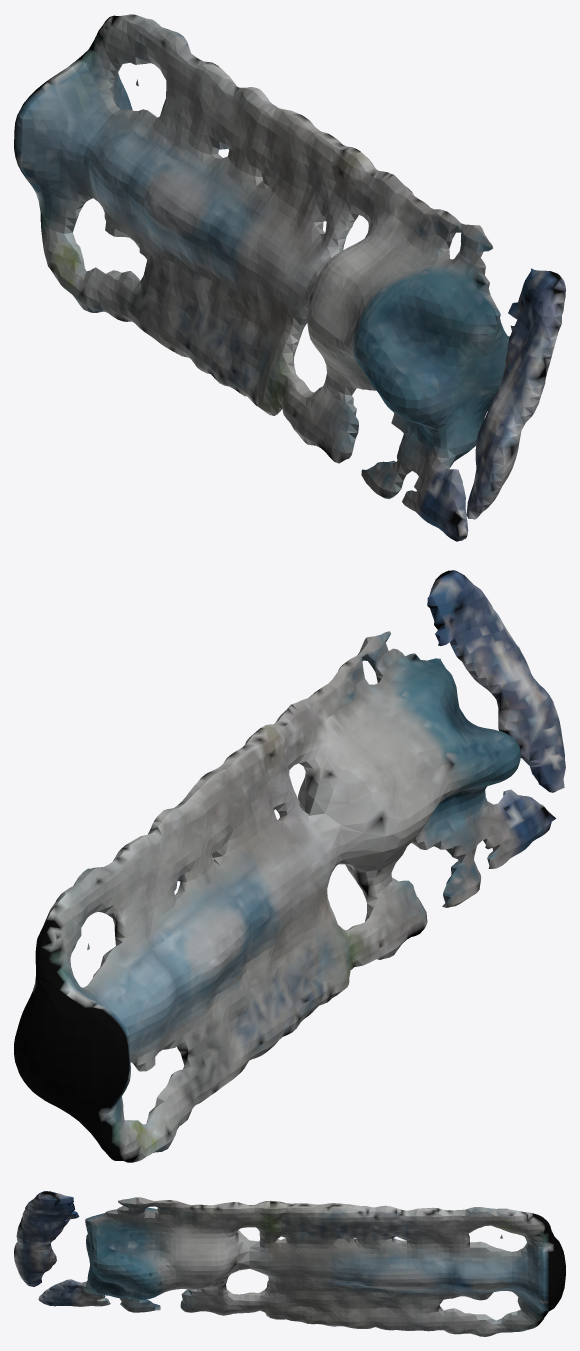
Rendered from recommended.dae.
The picture shows the model from 3 angles, top to bottom: view 1: azimuth 30°, elevation 25°; view 2: azimuth 150°, elevation 25°; view 3: azimuth 270°, elevation 25°; orthographic projection. The views are drawn at different scales.
Parts seen in each view (by area): view 1: node; view 2: node; view 3: node.
Boxes of the visible parts, box(x1,y1,x2,y2) form: node: box(14, 14, 565, 541); node: box(14, 570, 565, 1162); node: box(14, 1191, 565, 1336).
Bounding box in the file's own units: 0.0531 × 0.1054 × 0.3131.
